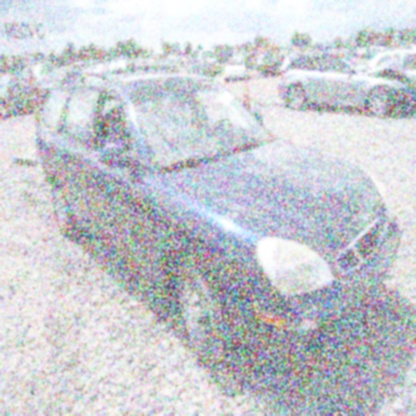Vehicle: (35, 65, 402, 370)
